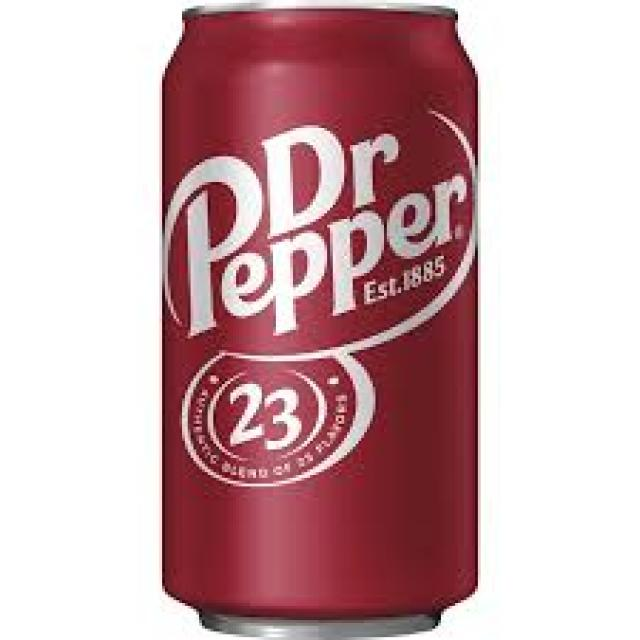Cans: (148, 3, 501, 634)
